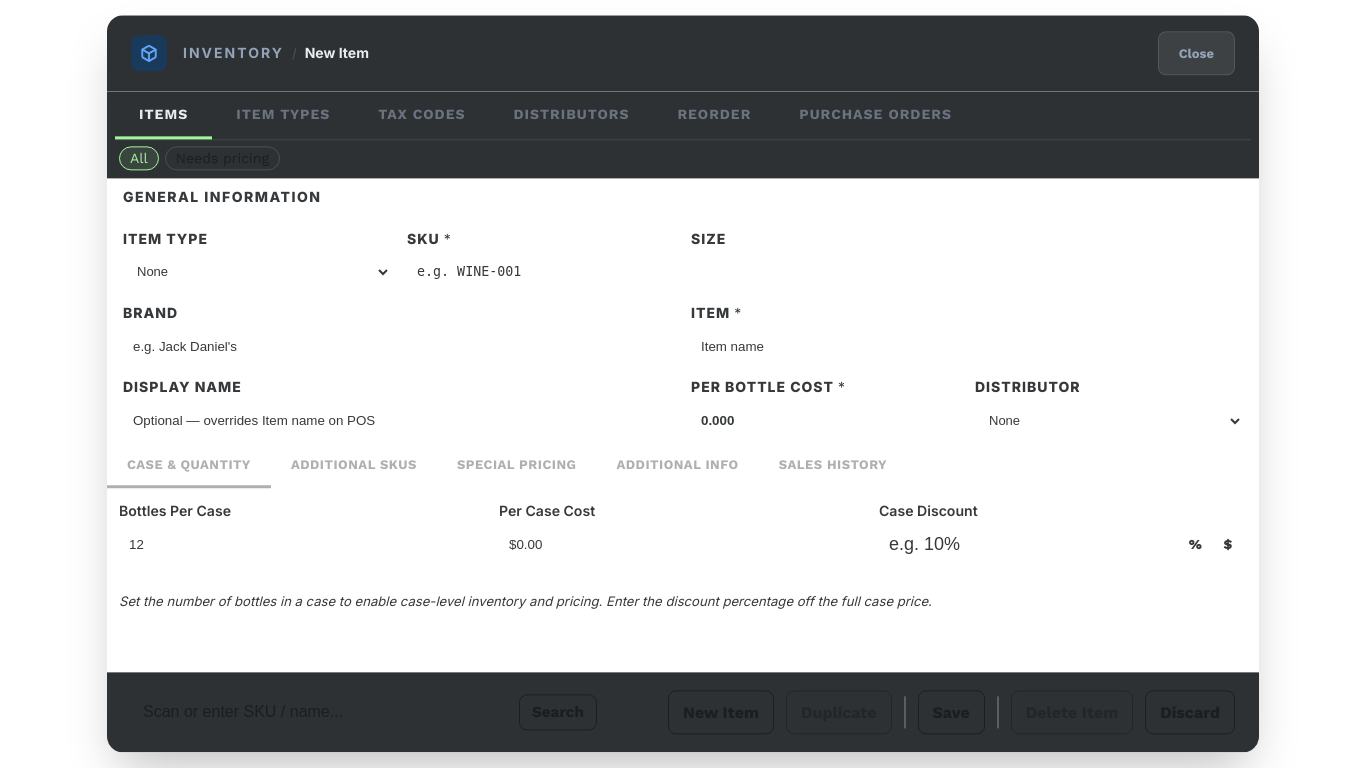
it: InventoryModal › switches to Distributors panel when tab is clicked
Click the tab "Distributors": (571, 115) [490,91,653,139]
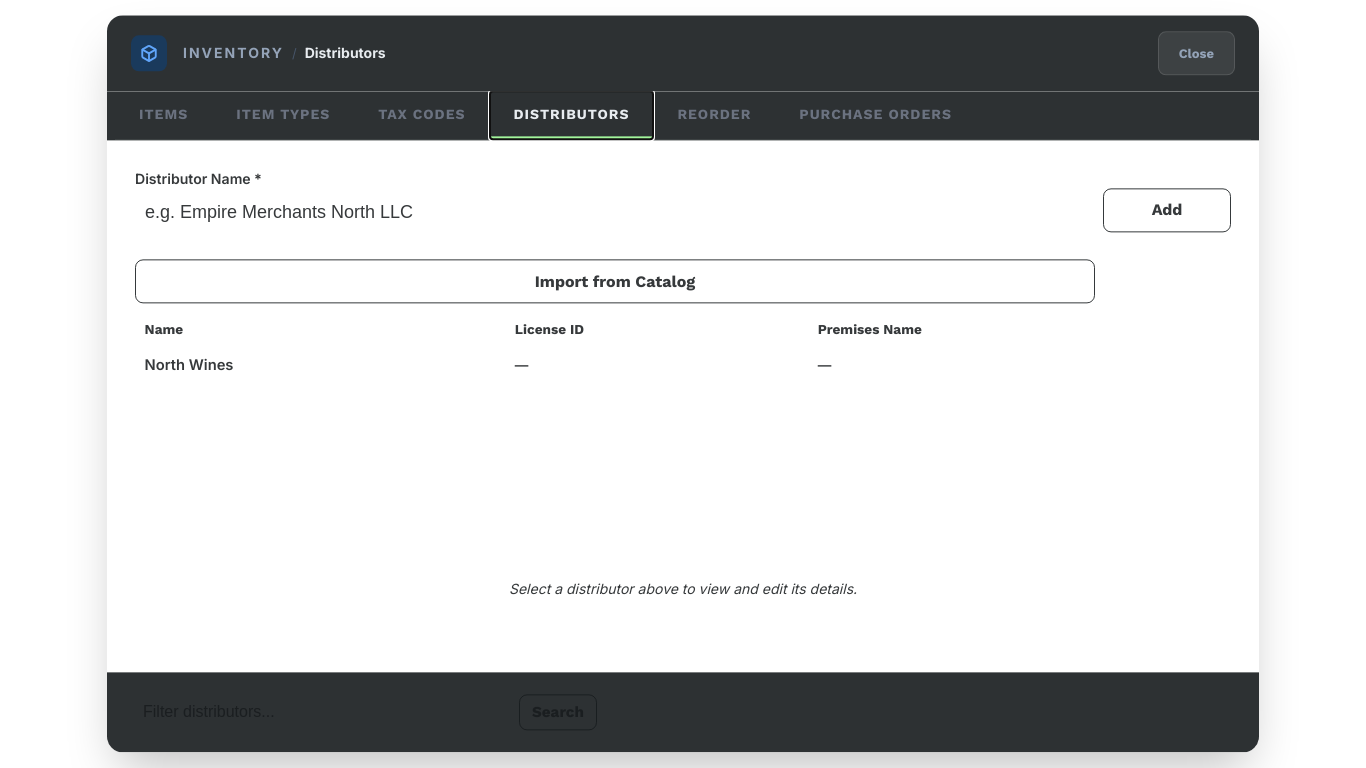
Check: the panel named "Distributors" is shown, box [107,140,1259,673]
